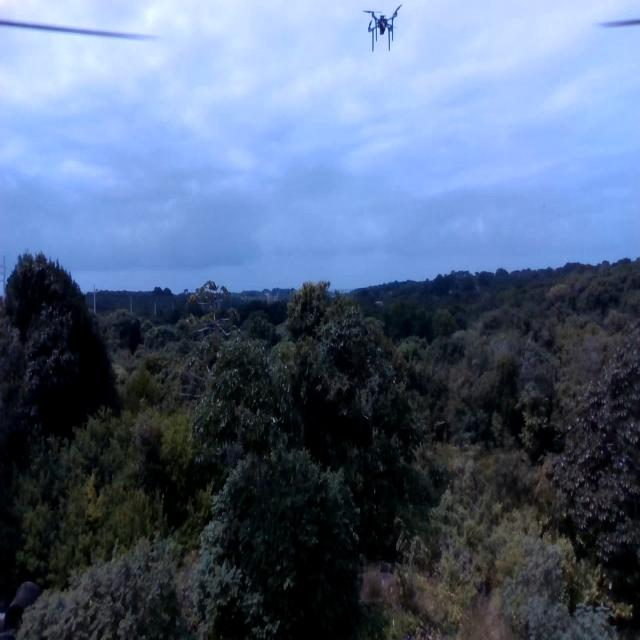-uav-: (360, 3, 408, 64)
